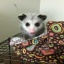opossum: (17, 13, 47, 37)
